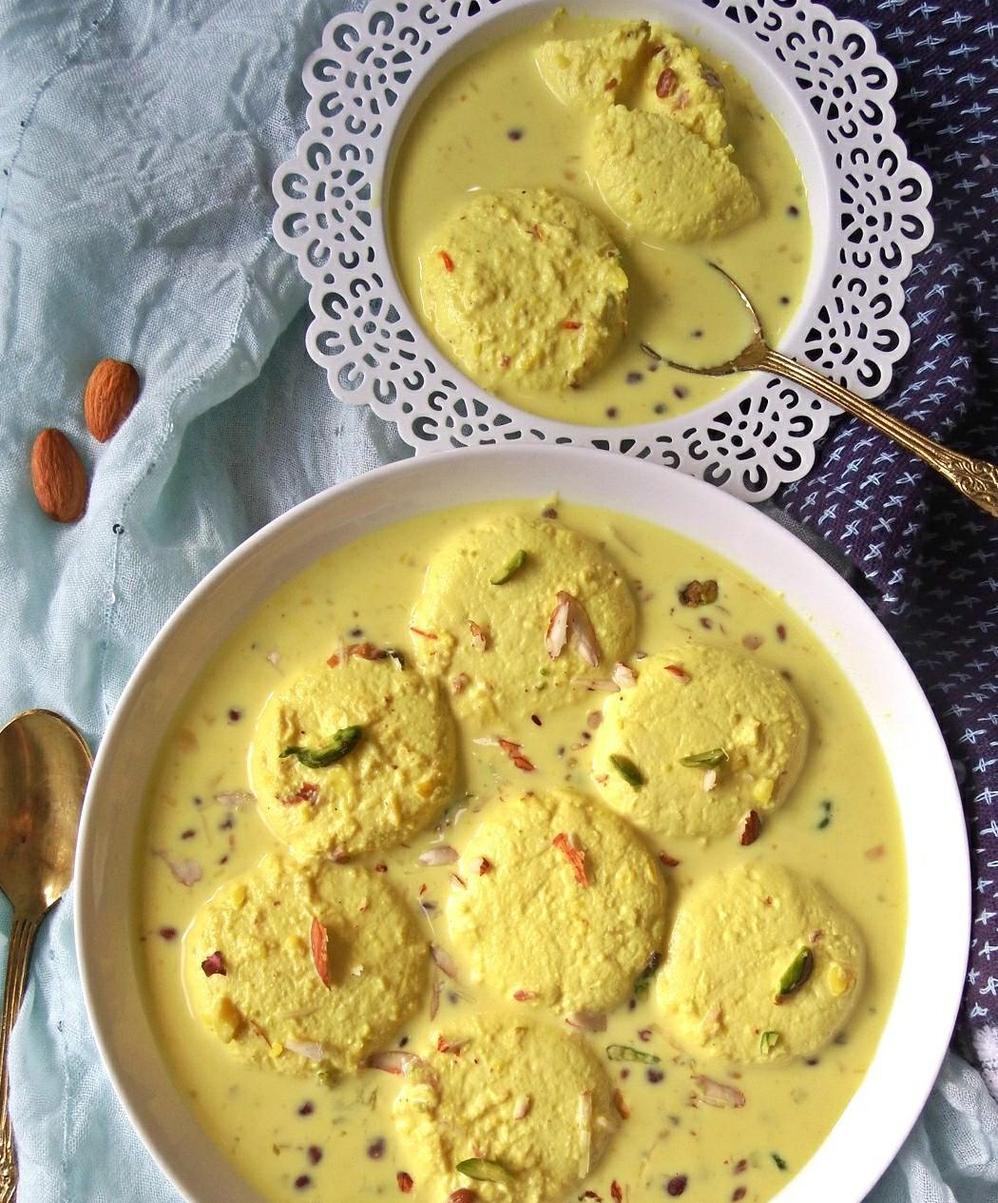RasMalai: (155, 504, 890, 1203), (381, 0, 827, 406)
